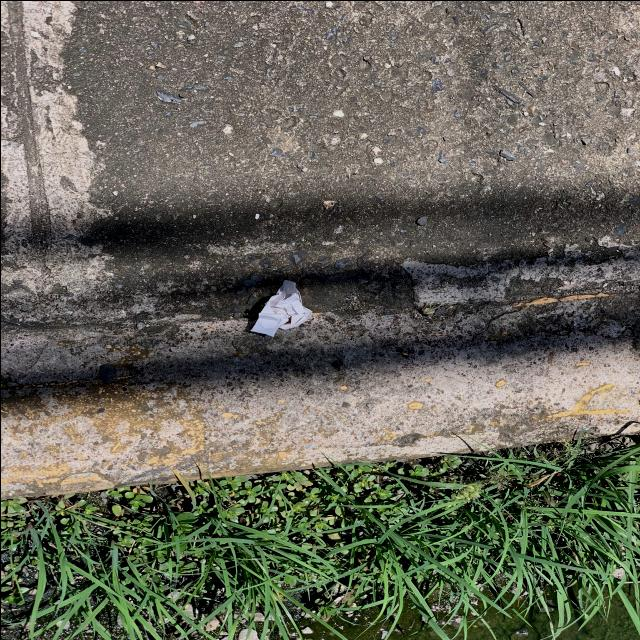Normal paper: (249, 279, 311, 337)
